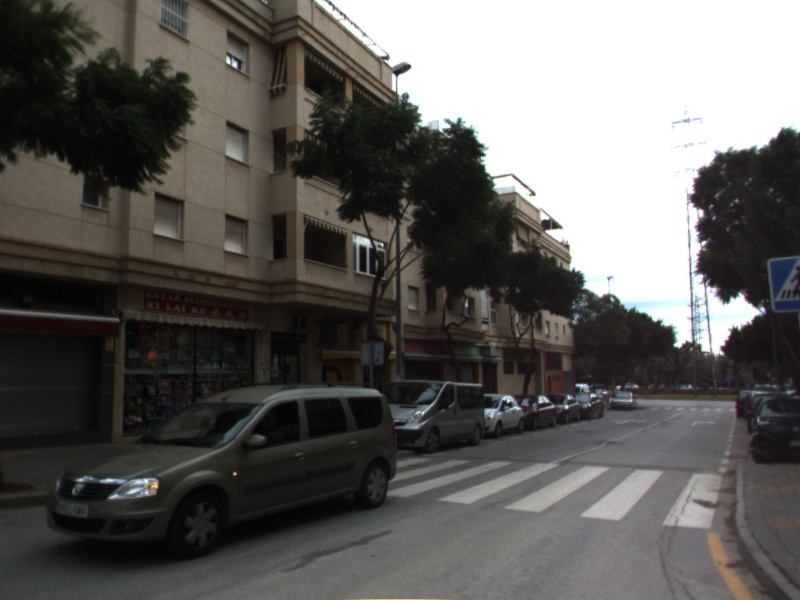RIGHT: (689, 418, 718, 428)
